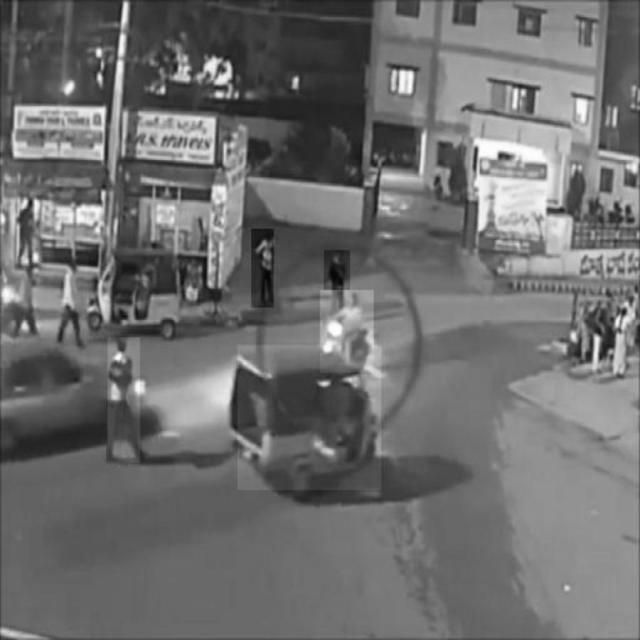person: (108, 337, 140, 461), (324, 250, 350, 323), (62, 263, 84, 346), (252, 229, 274, 307)
vehicle: (238, 345, 382, 489), (89, 256, 177, 337), (320, 290, 374, 373)
